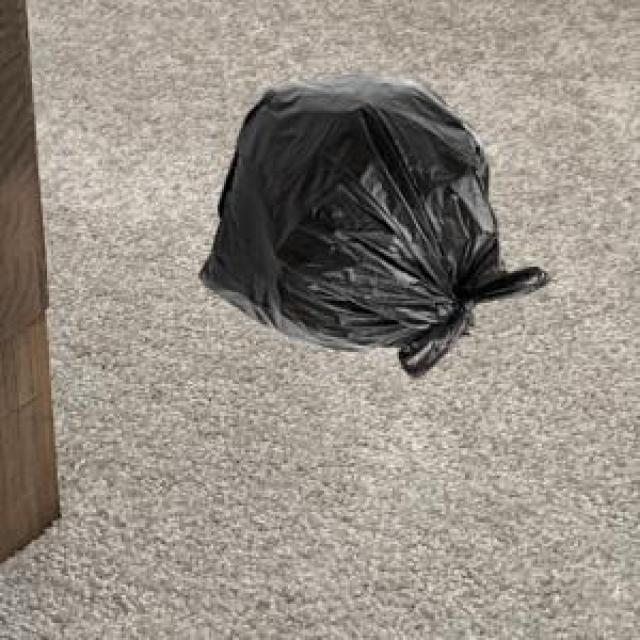waste: (200, 76, 549, 376)
